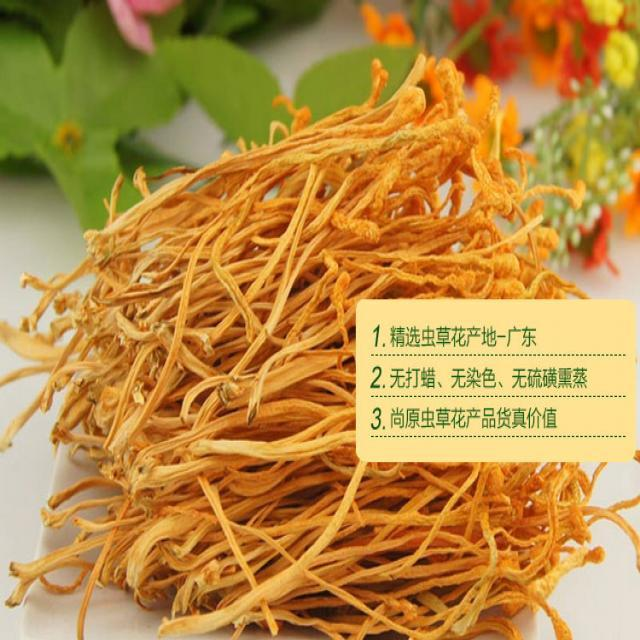Cordyceps militaris: (9, 58, 604, 634)
